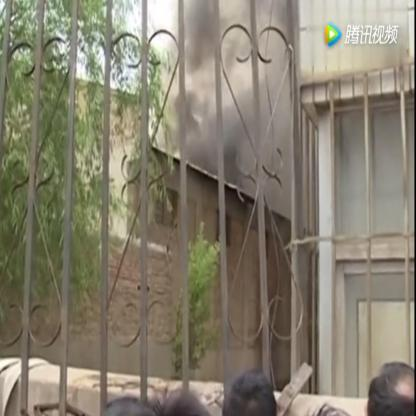smoke: (183, 3, 220, 174), (221, 87, 257, 186)
